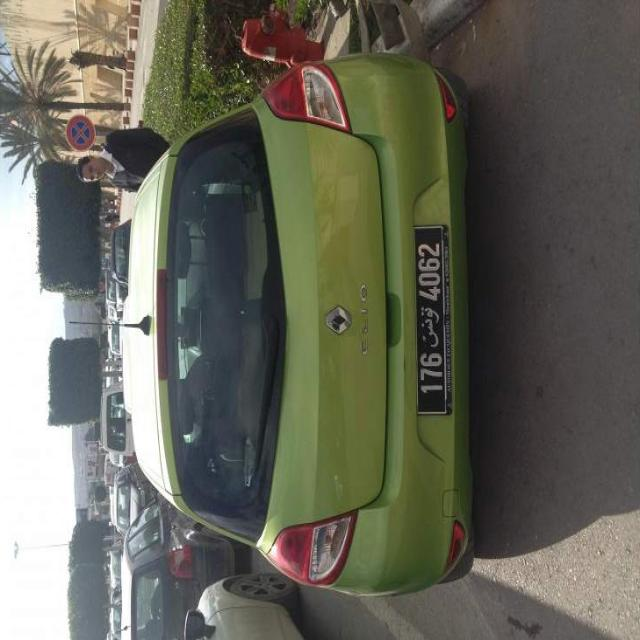licence plate: (415, 229, 445, 413)
